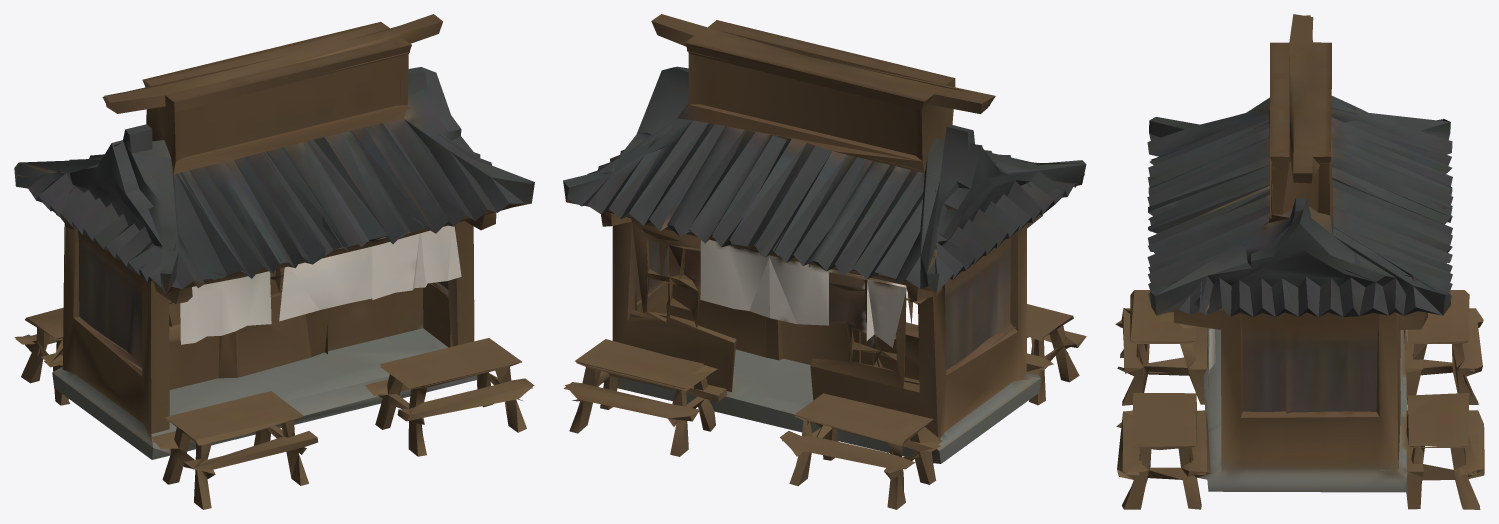
Rendered from 酒肆茶館.glb.
The picture shows the model from 3 angles, left to right: view 1: azimuth 30°, elevation 25°; view 2: azimuth 150°, elevation 25°; view 3: azimuth 270°, elevation 25°; orthographic projection. The views are drawn at different scales.
Parts seen in each view (by area): view 1: geometry_0; view 2: geometry_0; view 3: geometry_0.
Part boxes in pixels (box(x1,y1,x2,y2)): geometry_0: box(14, 14, 534, 509); geometry_0: box(563, 14, 1086, 509); geometry_0: box(1115, 14, 1484, 509).
Size of the model in its own units: 1 by 0.88 by 0.8696.
1 material, 1 textured.
